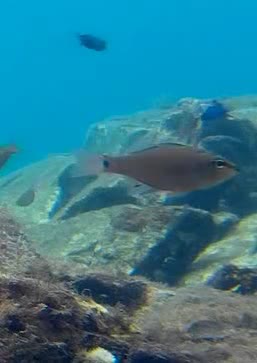smallfish: (74, 135, 241, 193)
